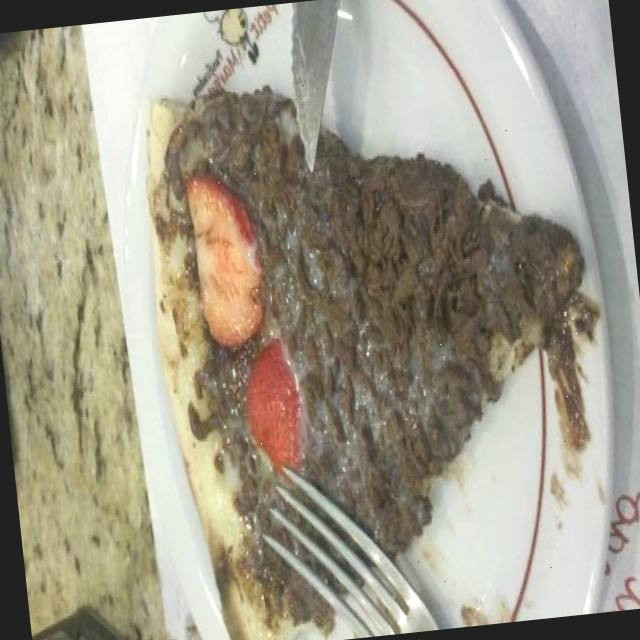pizza: (148, 86, 582, 640)
strawberry: (180, 162, 273, 368), (231, 326, 316, 498)
